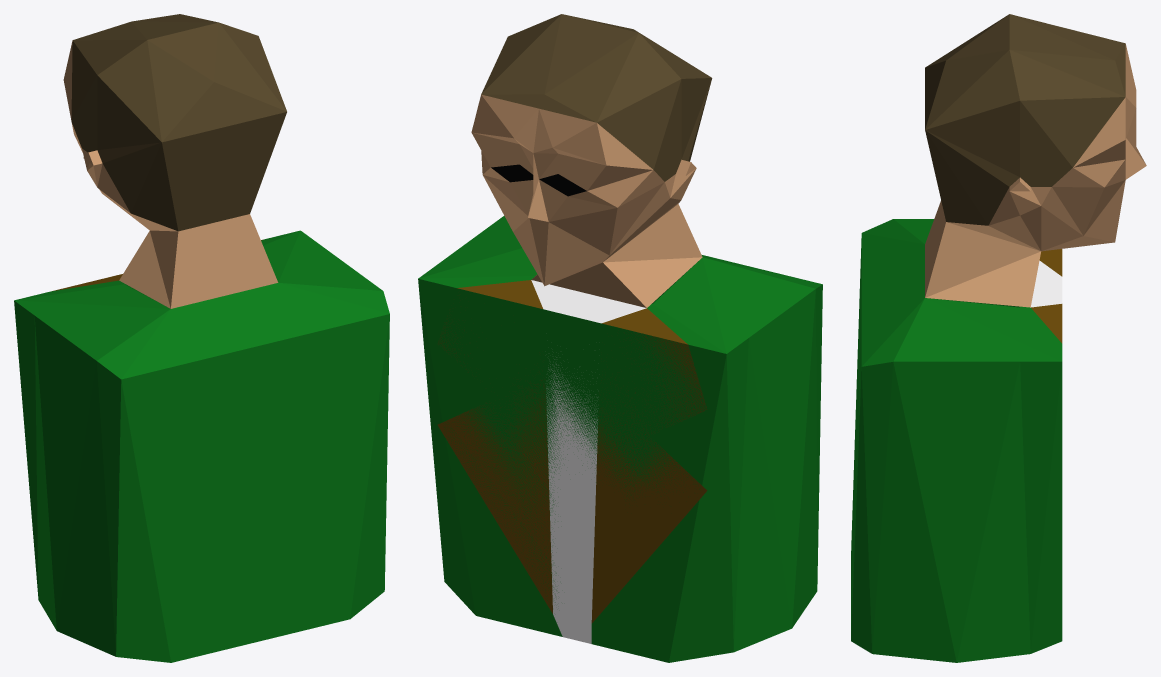
The model's file is npc_world_philipe_carnillean_0.obj.
The picture shows the model from 3 angles, left to right: view 1: azimuth 30°, elevation 25°; view 2: azimuth 150°, elevation 25°; view 3: azimuth 270°, elevation 25°; orthographic projection. The views are drawn at different scales.
Size of the model in its own units: 0.2656 by 0.4609 by 0.2188.
